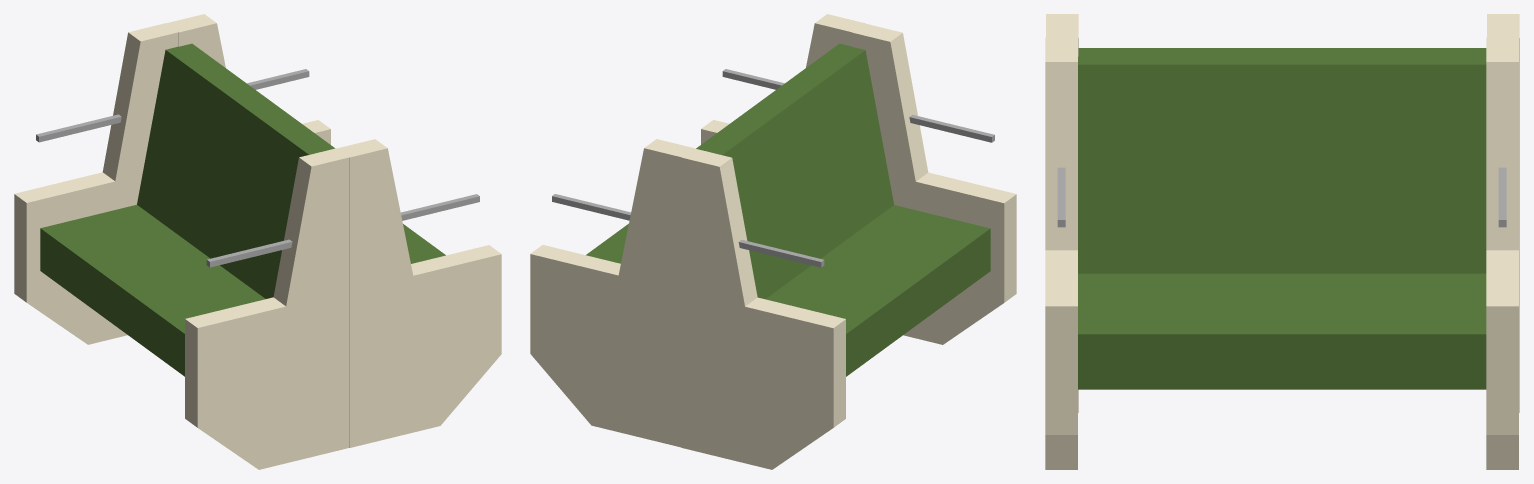
File: S_SitRectoVerso_PH.fbx
3 views of the same model, side by side, from view 1: azimuth 30°, elevation 25°; view 2: azimuth 150°, elevation 25°; view 3: azimuth 270°, elevation 25° (orthographic). The views are drawn at different scales.
Parts seen in each view (by area): view 1: オブジェクト_521.002; view 2: オブジェクト_521.002; view 3: オブジェクト_521.002.
Part boxes in pixels (<box>): オブジェクト_521.002: <box>14,14,501,469</box>; オブジェクト_521.002: <box>530,14,1016,469</box>; オブジェクト_521.002: <box>1045,14,1519,469</box>.
Size of the model in its own units: 112 by 102 by 117.
